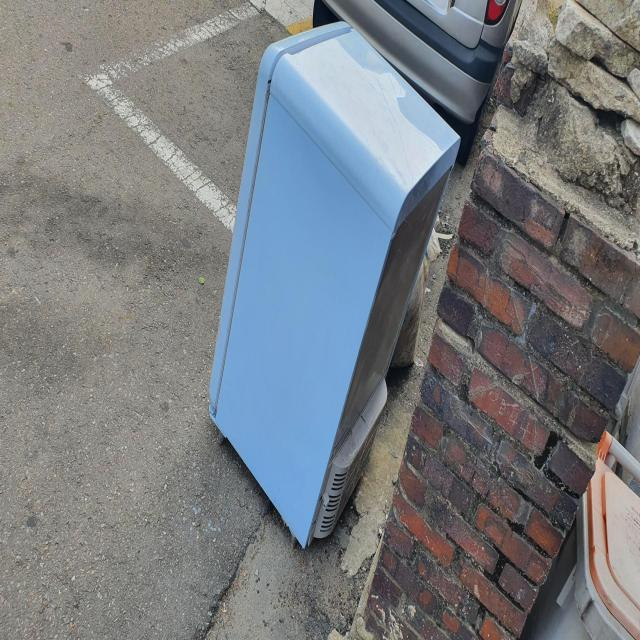refrigerator: (204, 17, 466, 553)
